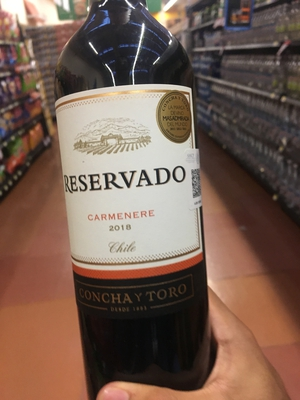reservado carmenere: (48, 3, 211, 400)
